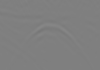hyperbola: (21, 21, 87, 56)
